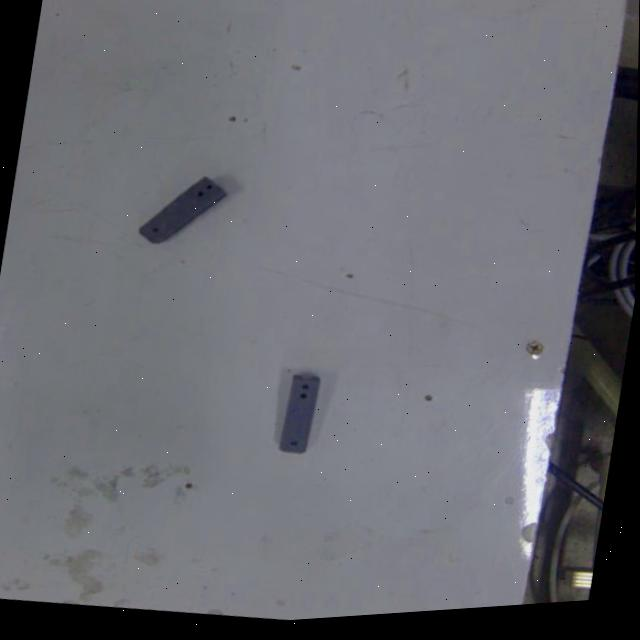grey: (132, 169, 230, 258), (272, 373, 326, 462)
head: (285, 438, 305, 455), (144, 224, 163, 239)
